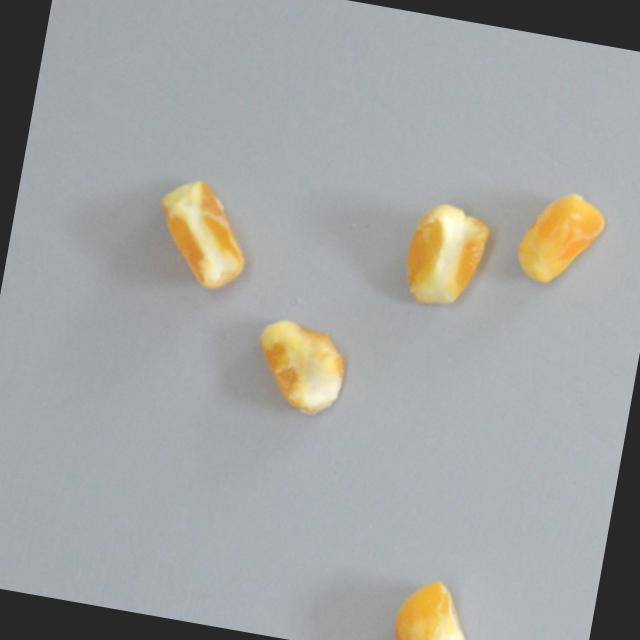dañado: (144, 167, 260, 301), (393, 193, 496, 319), (244, 311, 355, 424), (507, 180, 612, 299), (385, 567, 485, 640)
